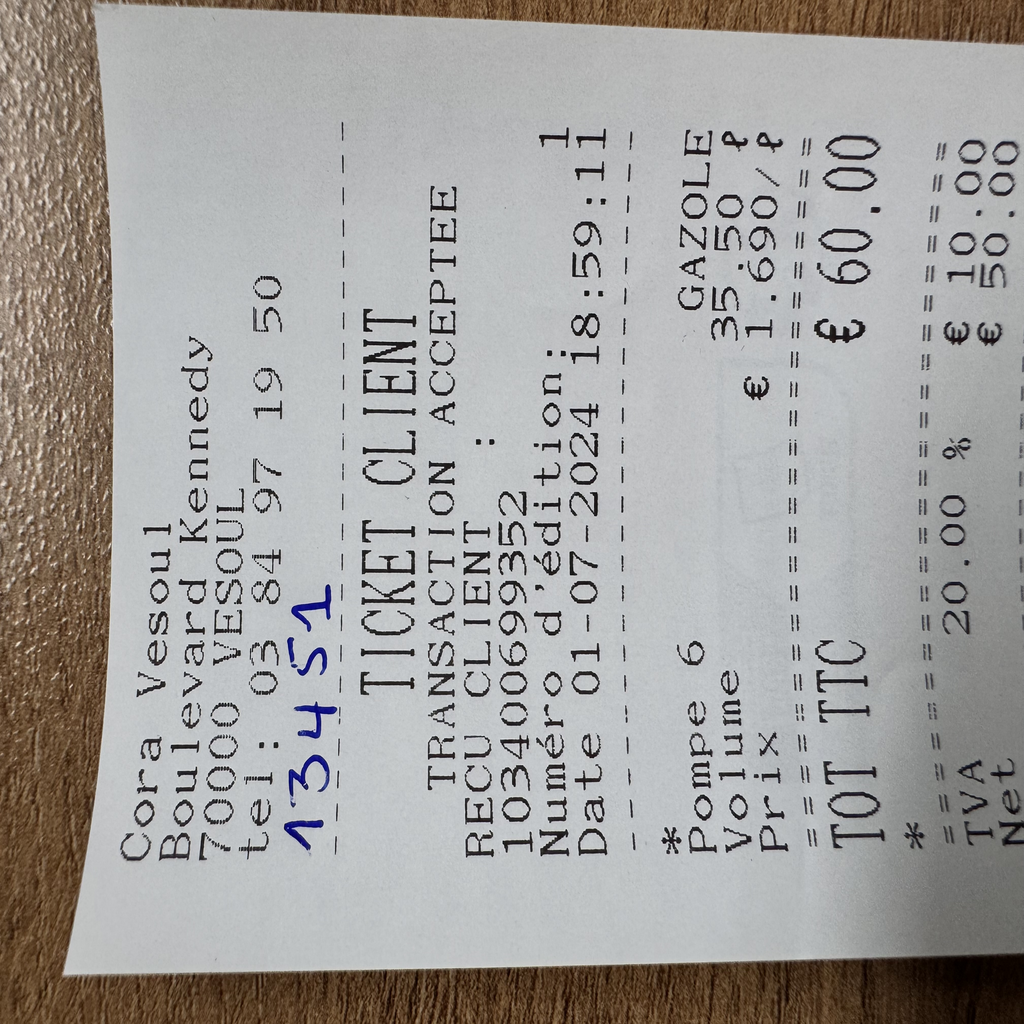recipt: (61, 6, 1024, 976)
